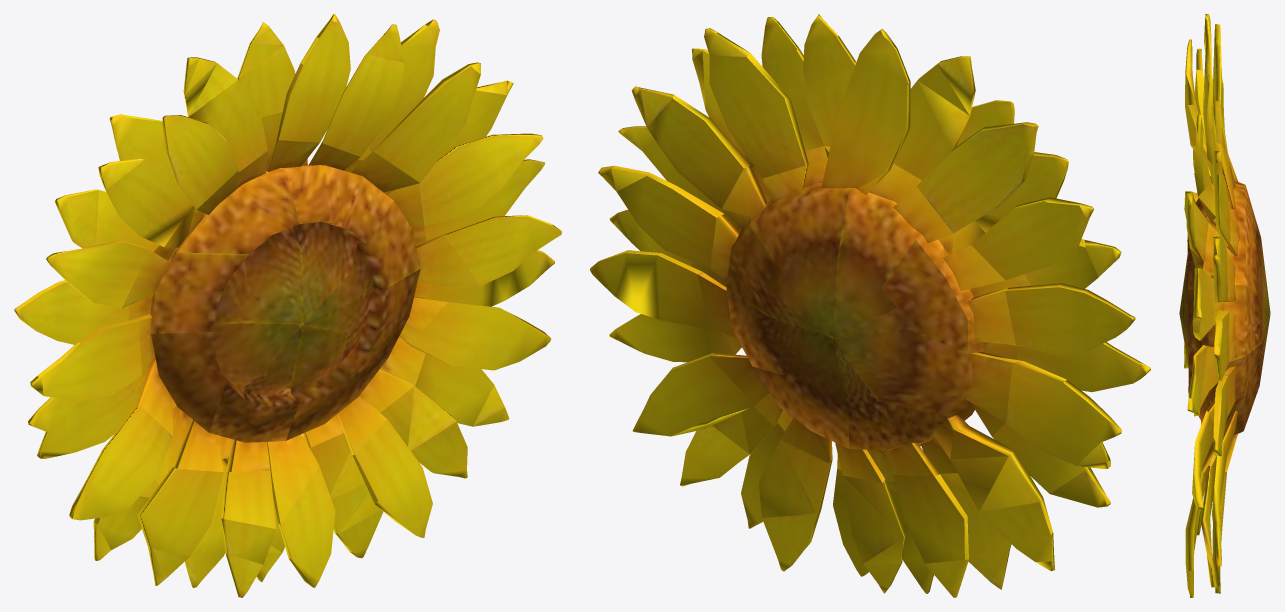
File: sunflower.glb
3 renders of one model, left to right at view 1: azimuth 30°, elevation 25°; view 2: azimuth 150°, elevation 25°; view 3: azimuth 270°, elevation 25°, orthographic. The views are drawn at different scales.
Bounding box in the file's own units: 1 × 0.9961 × 0.1602.
1 material, 1 textured.
